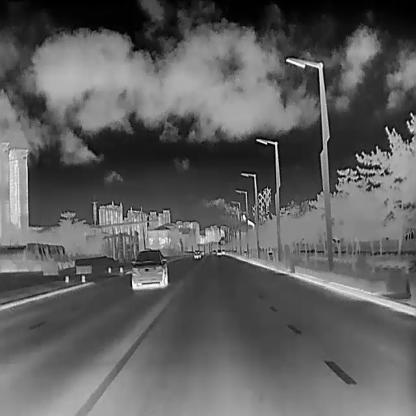car: (130, 247, 167, 288), (0, 242, 49, 270), (193, 248, 201, 258), (216, 248, 222, 255)
